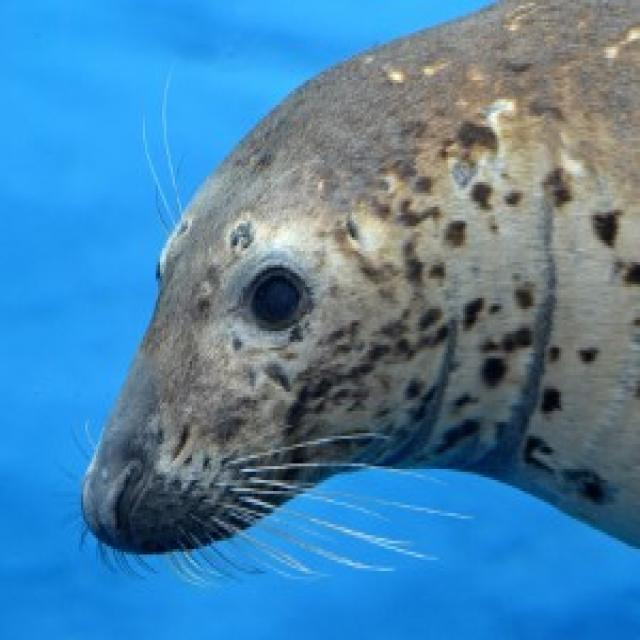Seal: (71, 18, 640, 574)
